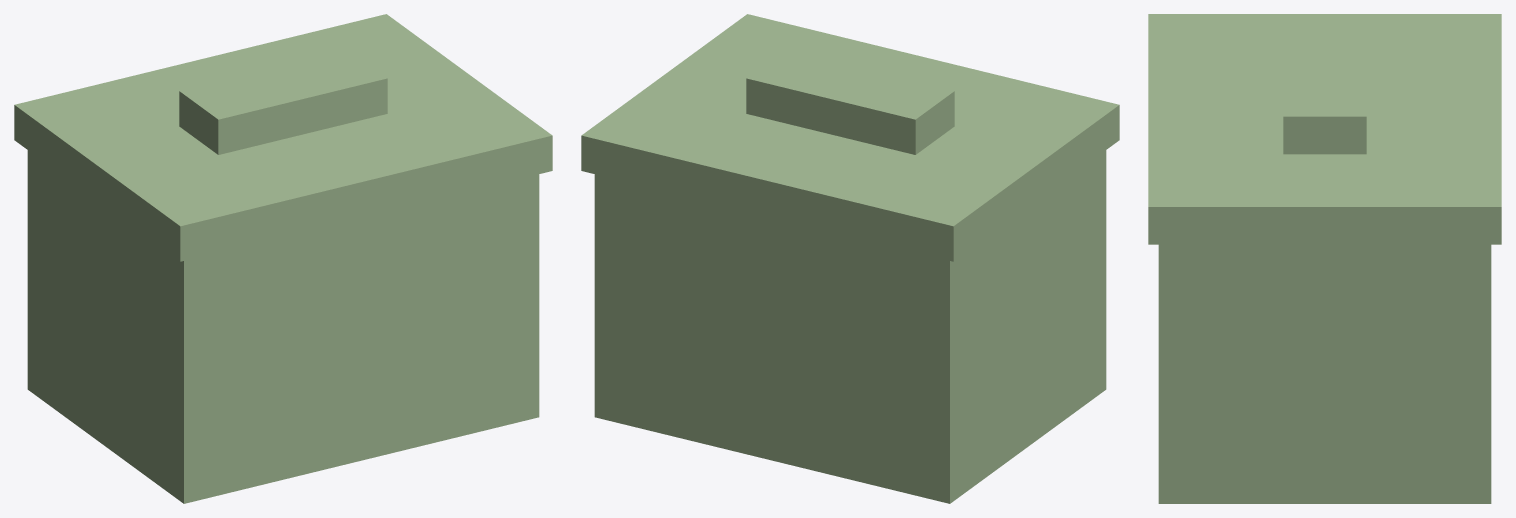
File: product_steam_carton.glb
3 views of the same model, side by side, from view 1: azimuth 30°, elevation 25°; view 2: azimuth 150°, elevation 25°; view 3: azimuth 270°, elevation 25° (orthographic). The views are drawn at different scales.
Visible parts, largest first — view 1: product.steam_carton; view 2: product.steam_carton; view 3: product.steam_carton.
Boxes of the visible parts, x1,y1,x2,y2 form: product.steam_carton: (14,14,552,503); product.steam_carton: (581,14,1119,503); product.steam_carton: (1148,14,1501,503).
Size of the model in its own units: 0.24 by 0.1964 by 0.1855.
